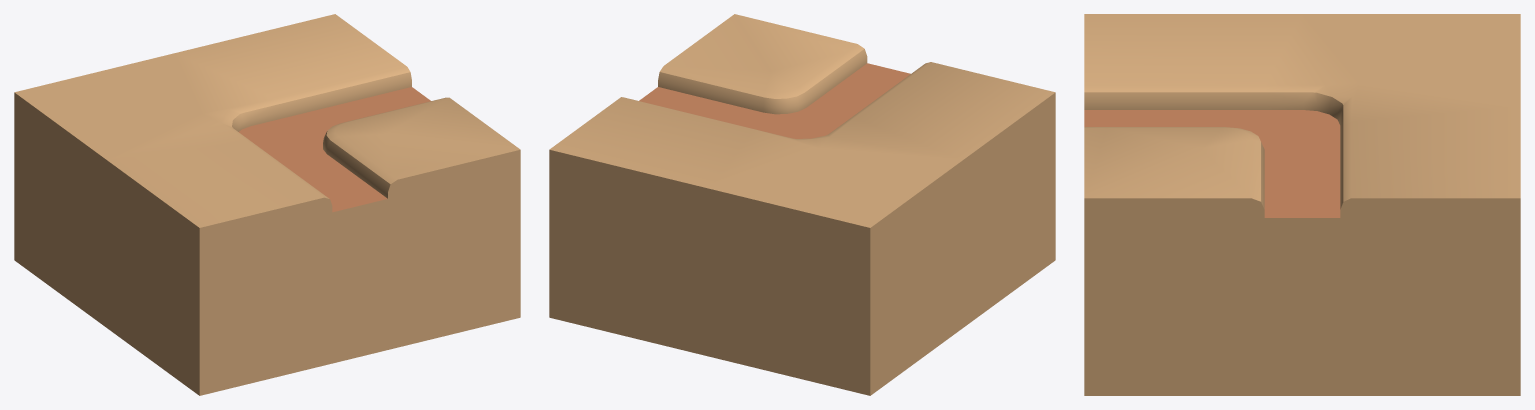
Rendered from square_sand_roadC.glb.
3 renders of one model, left to right at view 1: azimuth 30°, elevation 25°; view 2: azimuth 150°, elevation 25°; view 3: azimuth 270°, elevation 25°, orthographic. The views are drawn at different scales.
Visible parts, largest first — view 1: square_sand_roadC; view 2: square_sand_roadC; view 3: square_sand_roadC.
Part boxes in pixels (x1,y1,x2,y2): square_sand_roadC: (14, 14, 520, 395); square_sand_roadC: (549, 14, 1055, 395); square_sand_roadC: (1084, 14, 1520, 395).
Bounding box in the file's own units: 2.4 × 1.2 × 2.4.
